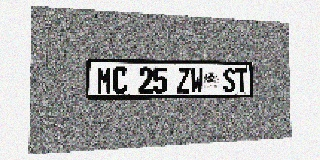2: (139, 67, 153, 94)
5: (153, 67, 167, 93)
C: (112, 67, 127, 94)
M: (97, 66, 112, 94)
S: (223, 68, 235, 92)
T: (236, 68, 248, 92)
W: (190, 68, 203, 93)
Z: (177, 67, 190, 93)
